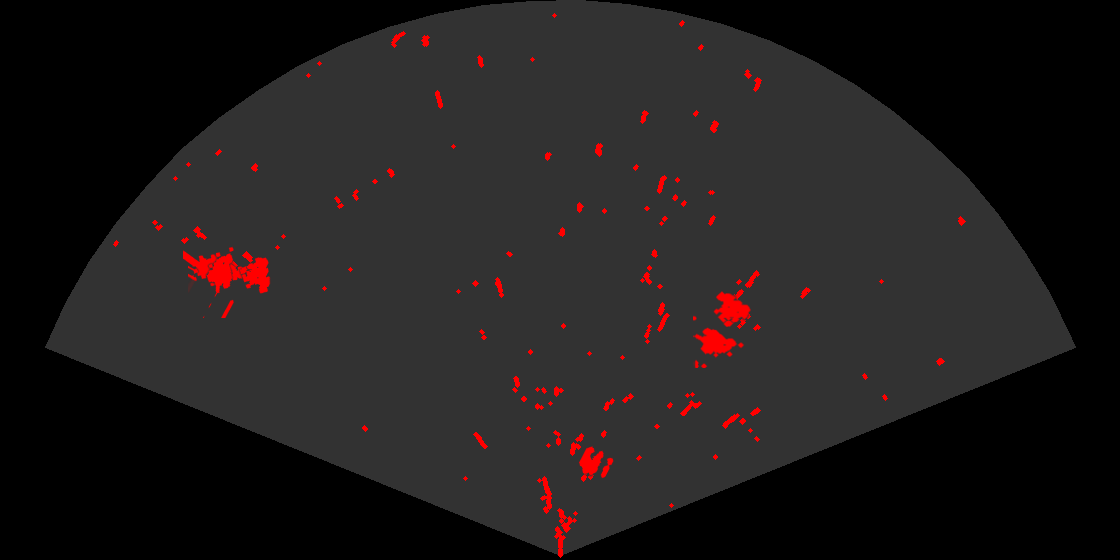ball: (577, 445, 615, 480)
cage: (188, 246, 272, 318), (693, 290, 752, 368)
frogman: (183, 249, 263, 288)
